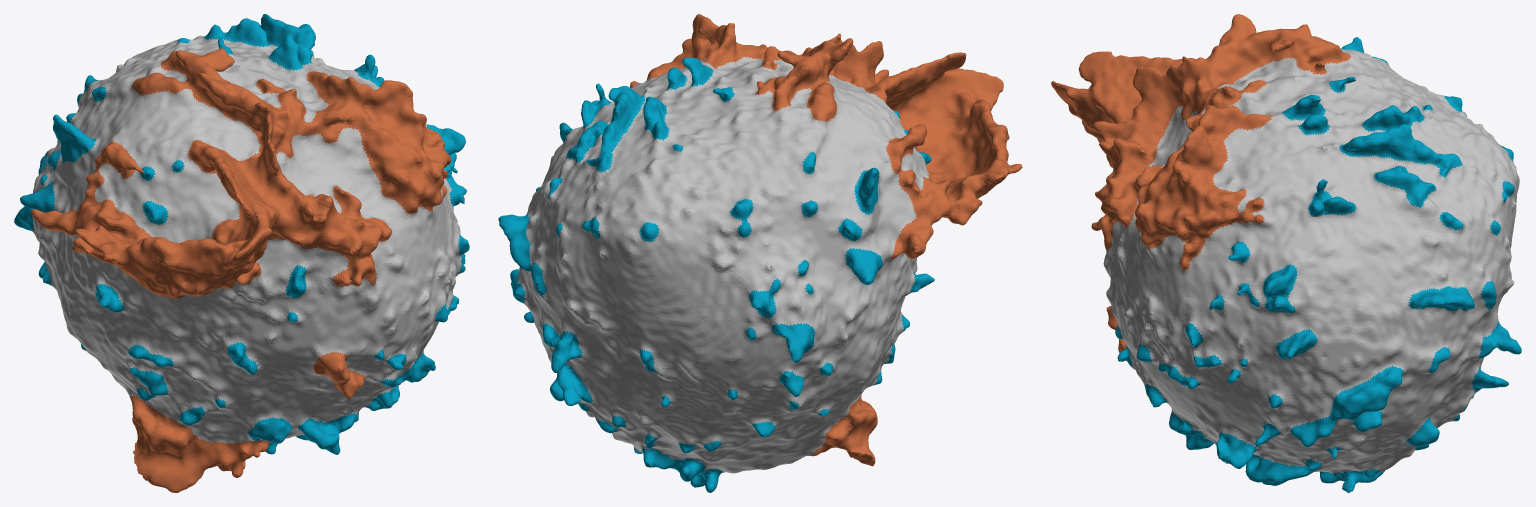
3 views of the same model, side by side, from view 1: azimuth 30°, elevation 25°; view 2: azimuth 150°, elevation 25°; view 3: azimuth 270°, elevation 25° (orthographic).
Size of the model in its own units: 172 by 164 by 166.
